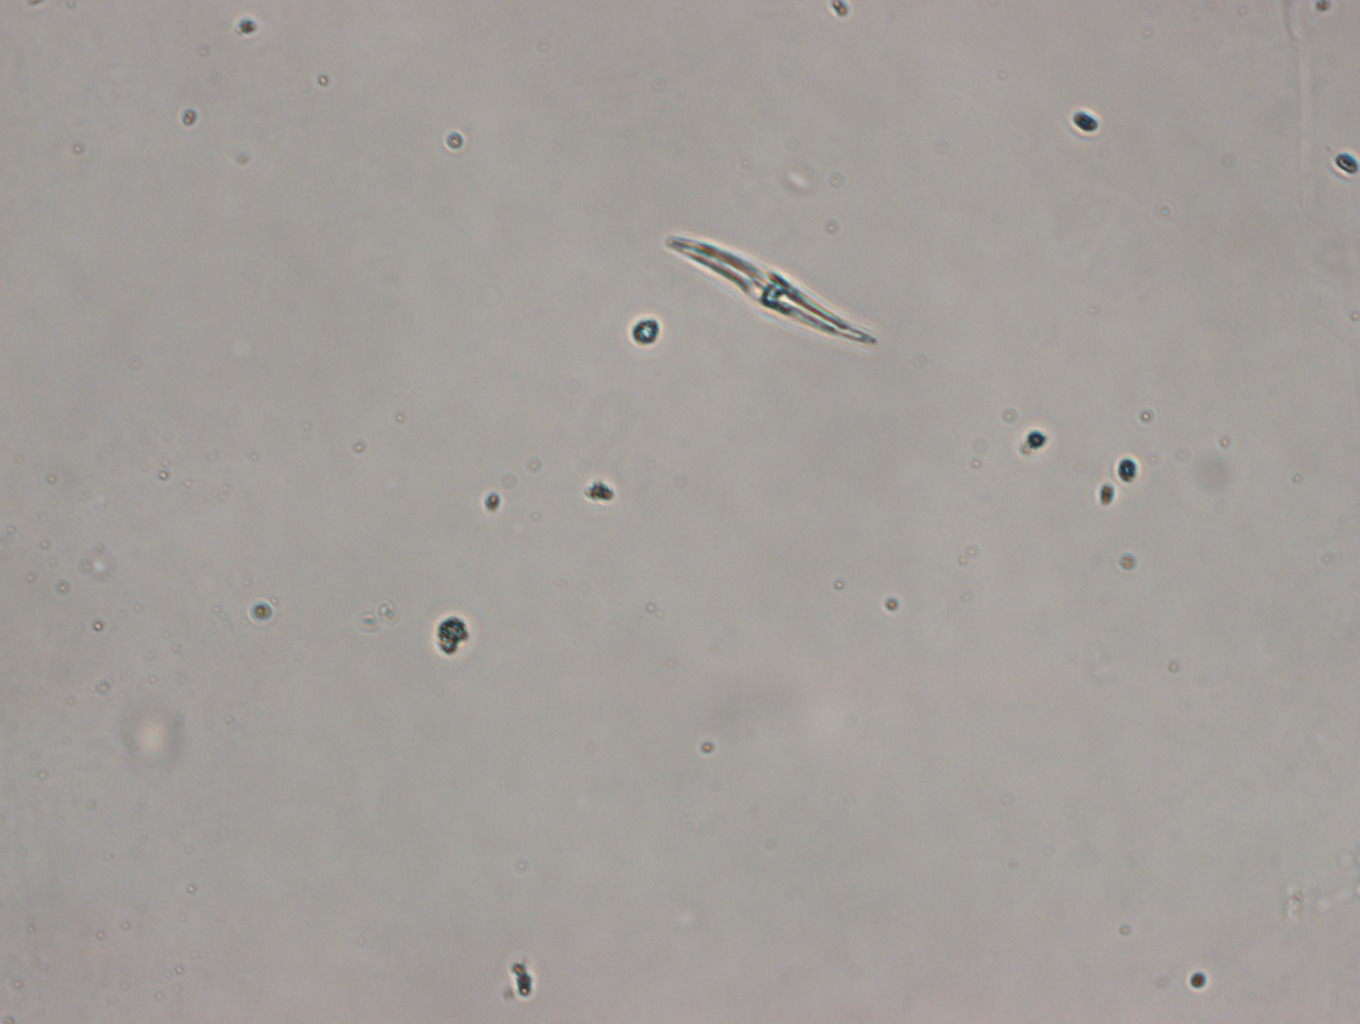pleurosigma pelagicum: (656, 231, 873, 343)
